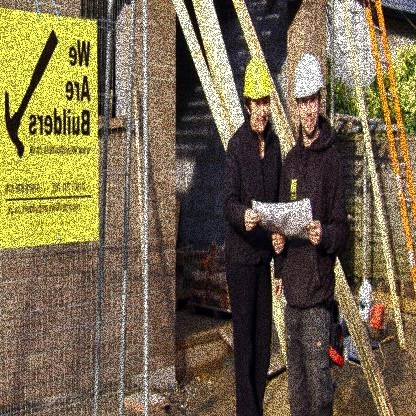white: (290, 46, 326, 104)
yellow: (241, 54, 278, 110)
